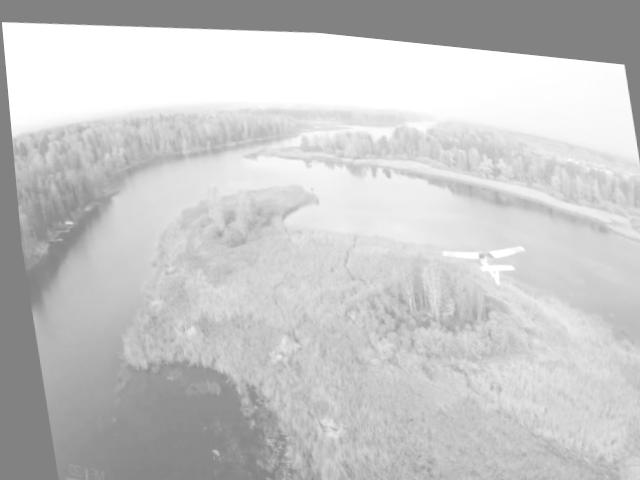hedef: (433, 224, 536, 283)
